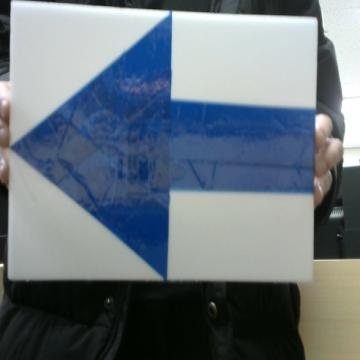blue_right: (11, 14, 314, 278)
